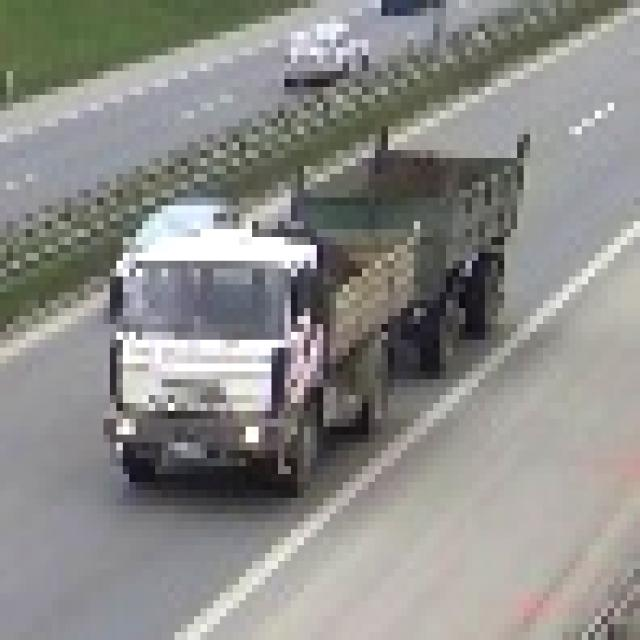truck: (98, 104, 525, 491)
